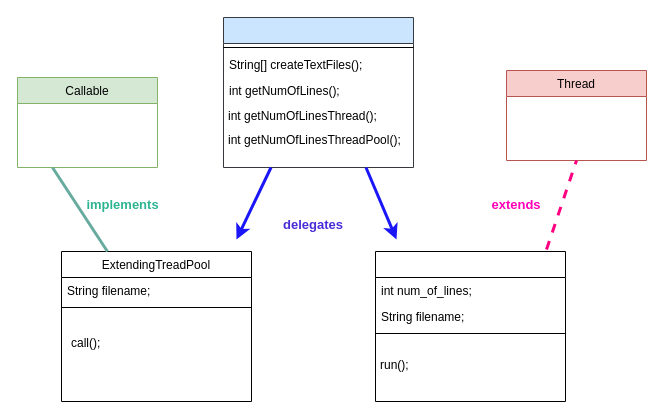
Some shapes in this 664 by 419 pixel diagram are drawn without their labels. Each missing label, with the box of its shape:
Ex2: (222, 16, 414, 168)
ExtendingTread: (374, 250, 566, 402)
